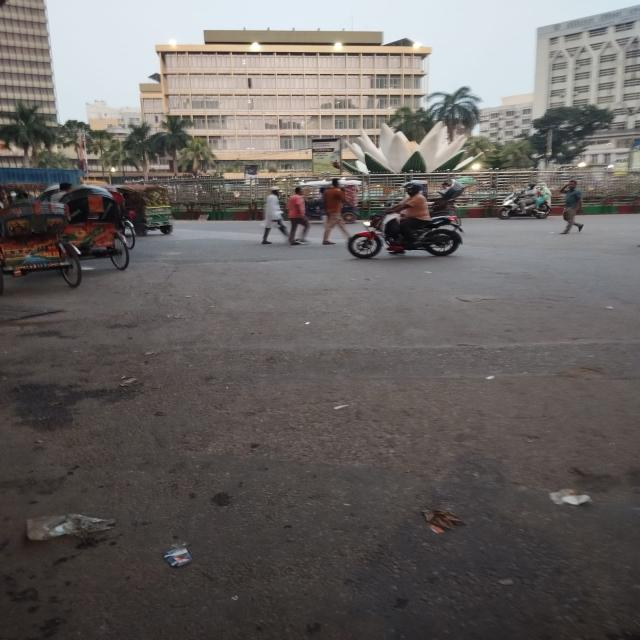person: (321, 179, 355, 248), (262, 185, 289, 251), (560, 177, 586, 235), (286, 185, 310, 245)
